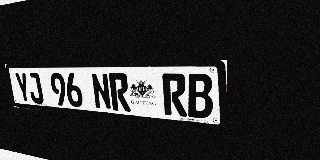6: (64, 73, 84, 108)
9: (49, 73, 69, 106)
B: (186, 74, 213, 119)
J: (26, 73, 44, 104)
N: (90, 73, 112, 110)
R: (162, 73, 187, 117), (108, 73, 131, 112)
Y: (14, 72, 32, 103)
